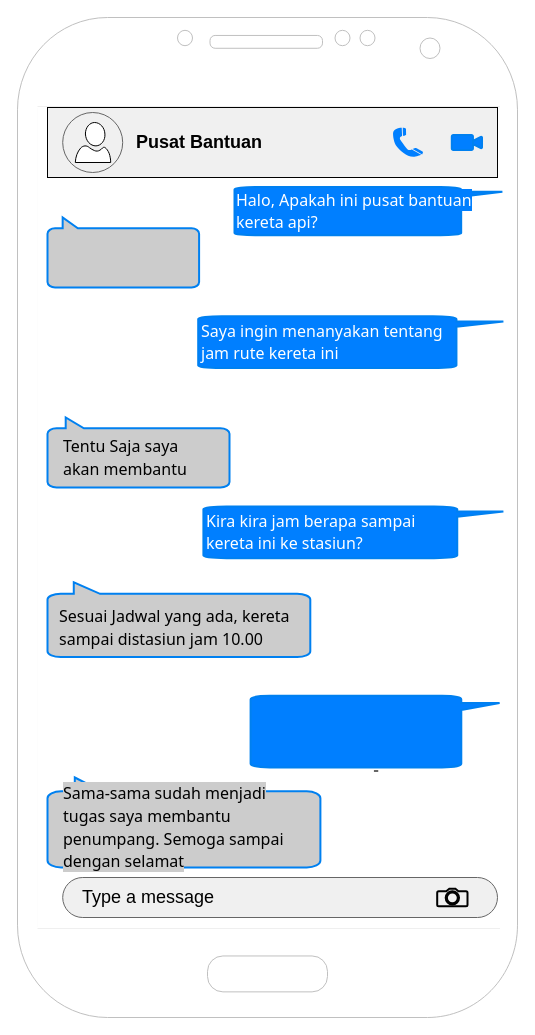
Image size: 535x1035. Some labels were removed from this diagram. Here are the shapes that lost their labels. From the top down, the centre of each, then its label:
the point at 123,252: Benar, Ada yang bisa saya bantu
the point at 374,731: Terima kasih atas bantuannya, senang bisa menaiki kereta ini
